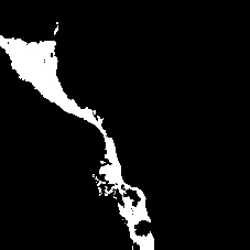crack: (1, 34, 157, 249)
pinhole: (54, 21, 60, 37)
